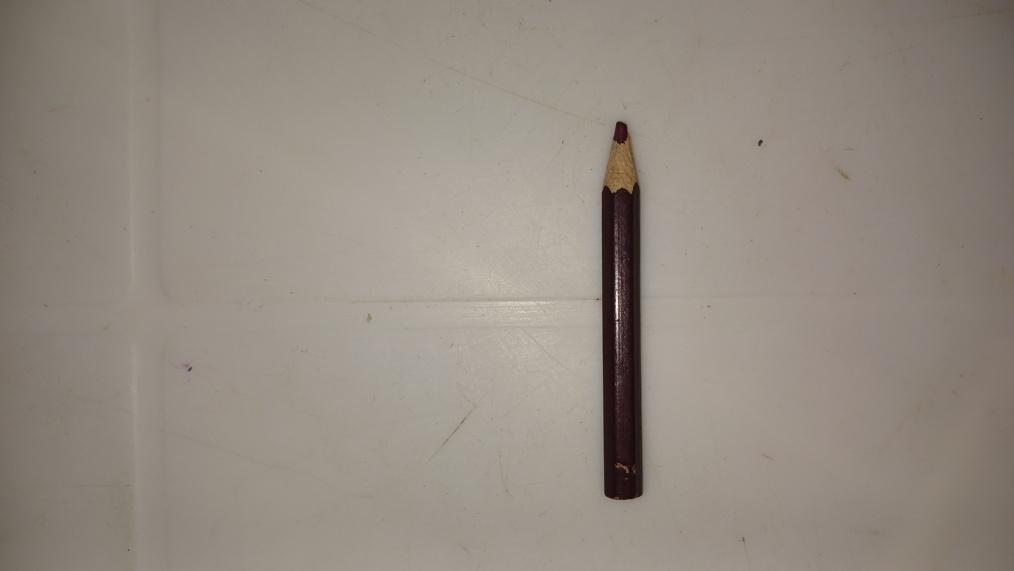Pencil: (601, 119, 642, 504)
